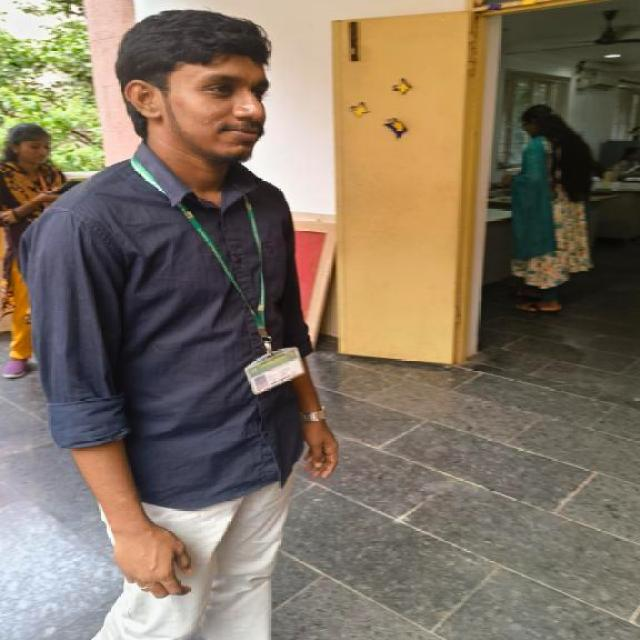ID_card: (181, 212, 306, 380)
